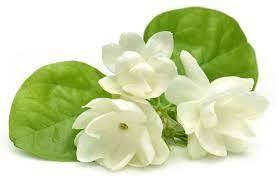jasmine: (163, 48, 270, 161), (68, 80, 162, 166), (87, 16, 177, 94)
